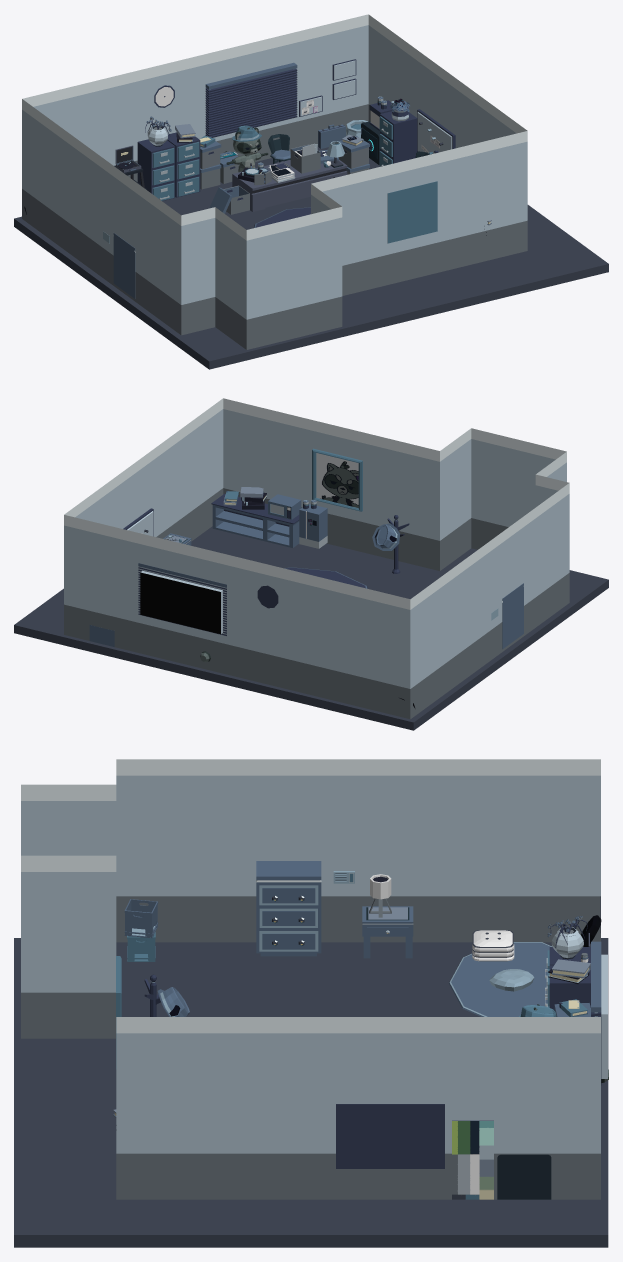
Rendered from INT_DetectableAgency.fbx.
The picture shows the model from 3 angles, top to bottom: view 1: azimuth 30°, elevation 25°; view 2: azimuth 150°, elevation 25°; view 3: azimuth 270°, elevation 25°; orthographic projection. The views are drawn at different scales.
Parts seen in each view (by area): view 1: Cube.1573, Cube.1572, Cube.1621, Cube.1577, Cube.1570, Cube.1587, Cube.1598, Cube.1596, Cube.1585, Cube.1589, RaccoonBody.001, Cube.1608 (+8 smaller); view 2: Cube.1573, Cube.1572, Cube.1595, Cube.1577, Cube.1585, Cube.1580, BookStacks.114, Cube.1582, Cube.1621, Cylinder.478, Cylinder.456, Cube.1589; view 3: Cube.1573, Cube.1572, Cube.1589, Cube.1585, Cylinder.461, Cube.1598, Cube.1588, Cube.1591, Cube.1566, Cube.1626, Cube.1593, Cube.1596 (+6 smaller).
Boxes of the visible parts, x1,y1,x2,y2 form: Cube.1573: (22, 14, 527, 349); Cube.1572: (14, 147, 608, 369); Cube.1621: (205, 68, 297, 137); Cube.1577: (387, 181, 437, 243); Cube.1570: (232, 159, 347, 211); Cube.1587: (137, 139, 175, 200); Cube.1598: (379, 111, 417, 166); Cube.1596: (167, 132, 200, 197); Cube.1585: (113, 233, 135, 298); Cube.1589: (417, 109, 455, 153); RaccoonBody.001: (226, 127, 268, 172); Cube.1608: (290, 143, 320, 173); Cube.1573: (64, 398, 569, 719); Cube.1572: (14, 526, 608, 730); Cube.1595: (211, 493, 299, 547); Cube.1577: (312, 448, 362, 511); Cube.1585: (502, 583, 523, 649); Cube.1580: (299, 504, 327, 548); BookStacks.114: (223, 487, 266, 509); Cube.1582: (268, 494, 301, 519); Cube.1621: (138, 567, 226, 635); Cylinder.478: (372, 523, 399, 550); Cylinder.456: (284, 567, 367, 588); Cube.1589: (123, 508, 153, 536); Cube.1573: (21, 759, 607, 1199); Cube.1572: (14, 938, 608, 1247); Cube.1589: (336, 1104, 444, 1168); Cube.1585: (256, 861, 321, 956); Cylinder.461: (449, 942, 552, 1016); Cube.1598: (452, 1120, 493, 1199); Cube.1588: (497, 1154, 551, 1199); Cube.1591: (362, 906, 413, 958); Cube.1566: (472, 930, 514, 961); Cube.1626: (124, 899, 158, 938); Cube.1593: (489, 915, 601, 991); Cube.1596: (545, 965, 590, 1010).
Bounding box in the file's own units: 1748 × 536 × 1480.
